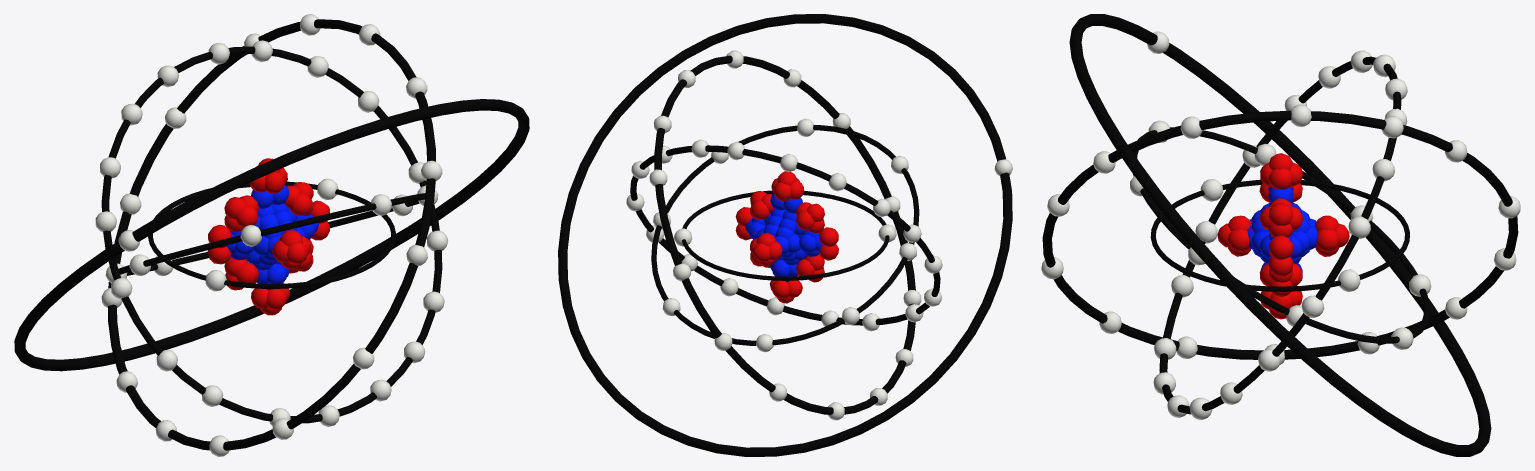
File: 45 Rodio.fbx
The picture shows the model from 3 angles, left to right: view 1: azimuth 30°, elevation 25°; view 2: azimuth 150°, elevation 25°; view 3: azimuth 270°, elevation 25°; orthographic projection. The views are drawn at different scales.
Visible parts, largest first — view 1: Orbita.005, Nucleo.004, Orbita.004, Orbita.003, Orbita.002, Orbita.001; view 2: Orbita.005, Nucleo.004, Orbita.004, Orbita.002, Orbita.003, Orbita.001; view 3: Orbita.005, Nucleo.004, Orbita.004, Orbita.003, Orbita.002, Orbita.001.
Part boxes in pixels (x1,y1,x2,y2): Orbita.005: [14, 99, 529, 371]; Nucleo.004: [207, 158, 329, 315]; Orbita.004: [108, 19, 435, 450]; Orbita.003: [101, 46, 442, 423]; Orbita.002: [118, 193, 425, 275]; Orbita.001: [148, 181, 395, 288]; Orbita.005: [558, 14, 1012, 456]; Nucleo.004: [735, 171, 838, 303]; Orbita.004: [654, 55, 915, 414]; Orbita.002: [651, 125, 919, 345]; Orbita.003: [630, 145, 940, 325]; Orbita.001: [682, 190, 889, 280]; Orbita.005: [1069, 14, 1491, 456]; Nucleo.004: [1217, 153, 1349, 319]; Orbita.004: [1042, 110, 1518, 359]; Orbita.003: [1159, 56, 1401, 414]; Orbita.002: [1133, 127, 1430, 343]; Orbita.001: [1150, 179, 1409, 291].
Bounding box in the file's own units: 14.32 × 17.56 × 12.64.
